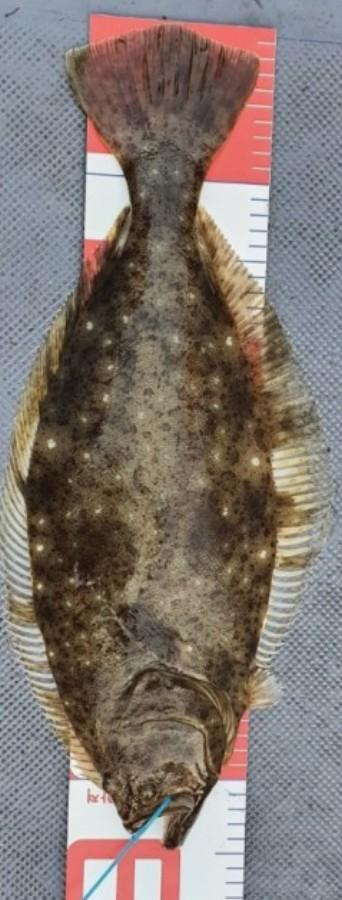fish: (1, 21, 332, 855)
